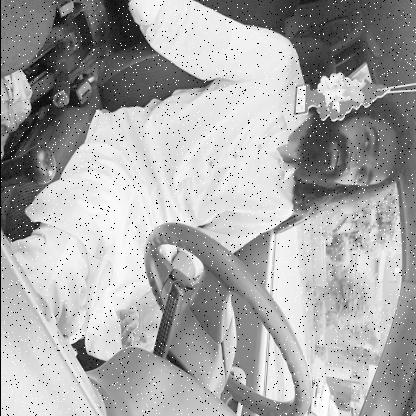no_seatbelt: (150, 102, 406, 253)
